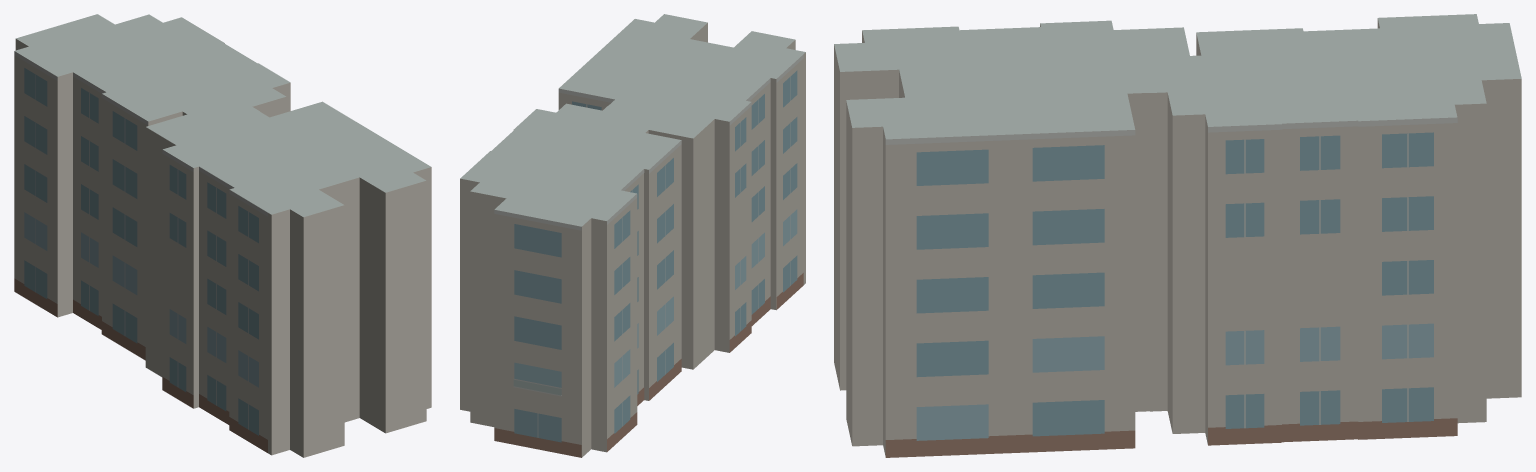
File: survey-upis-32606580.glb
The picture shows the model from 3 angles, left to right: view 1: azimuth 30°, elevation 25°; view 2: azimuth 150°, elevation 25°; view 3: azimuth 270°, elevation 25°; orthographic projection. The views are drawn at different scales.
Visible parts, largest first — view 1: survey-upis-32606580.tmp; view 2: survey-upis-32606580.tmp; view 3: survey-upis-32606580.tmp.
Part boxes in pixels (x1,y1,x2,y2): survey-upis-32606580.tmp: (14,14,431,457); survey-upis-32606580.tmp: (460,14,805,457); survey-upis-32606580.tmp: (834,14,1521,457).
Bounding box in the file's own units: 11.83 × 14 × 27.4.
